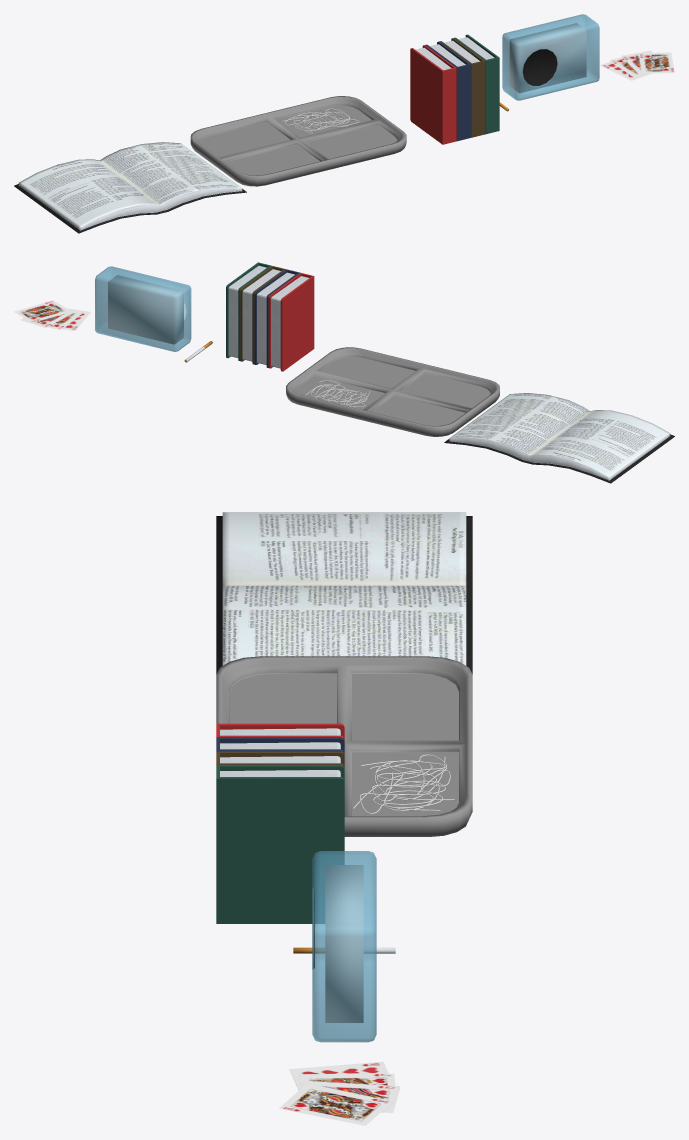
Rendered from Cell_Props.fbx.
The picture shows the model from 3 angles, top to bottom: view 1: azimuth 30°, elevation 25°; view 2: azimuth 150°, elevation 25°; view 3: azimuth 270°, elevation 25°; orthographic projection. The views are drawn at different scales.
Visible parts, largest first — view 1: Cell_Trai, Cell_Bible, Cell_Books, Cell_Radio, Cell_Cards; view 2: Cell_Trai, Cell_Bible, Cell_Books, Cell_Radio, Cell_Cards; view 3: Cell_Bible, Cell_Trai, Cell_Books, Cell_Radio, Cell_Cards.
Part boxes in pixels (x1,y1,x2,y2): Cell_Trai: [190, 96, 406, 186]; Cell_Bible: [14, 142, 246, 233]; Cell_Books: [410, 34, 499, 144]; Cell_Radio: [502, 14, 599, 100]; Cell_Cards: [600, 50, 674, 80]; Cell_Trai: [286, 347, 499, 436]; Cell_Bible: [444, 393, 674, 483]; Cell_Books: [226, 262, 314, 371]; Cell_Radio: [95, 266, 191, 351]; Cell_Cards: [14, 300, 90, 330]; Cell_Bible: [216, 512, 472, 674]; Cell_Trai: [216, 656, 472, 836]; Cell_Books: [216, 723, 344, 923]; Cell_Radio: [312, 851, 376, 1042]; Cell_Cards: [279, 1061, 400, 1125].
Bounding box in the file's own units: 2247 × 255 × 400.
